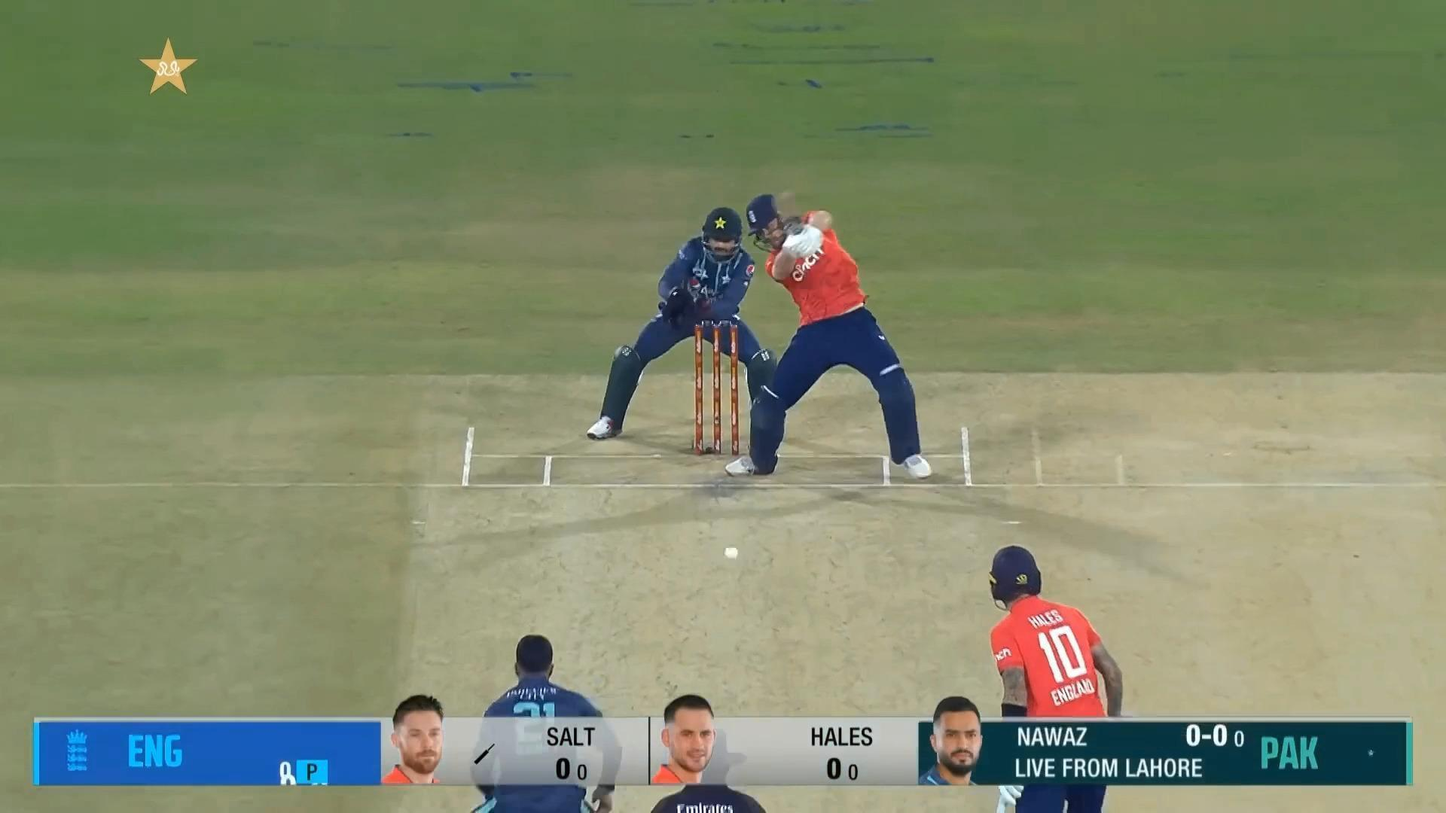BM 1: (725, 184, 934, 479)
BO: (459, 625, 629, 813)
